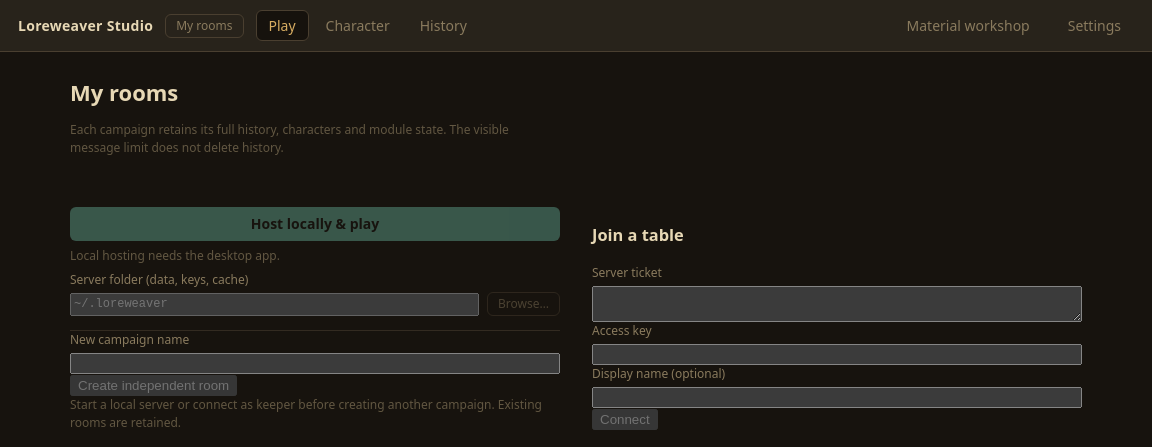
Test: App shell › starts in play mode and switches to studio mode
expect the heading "Join a table" is shown: met, box left=592, top=224, right=684, bottom=246
Click the button "Material workshop" at (968, 26), box left=894, top=10, right=1043, bottom=41
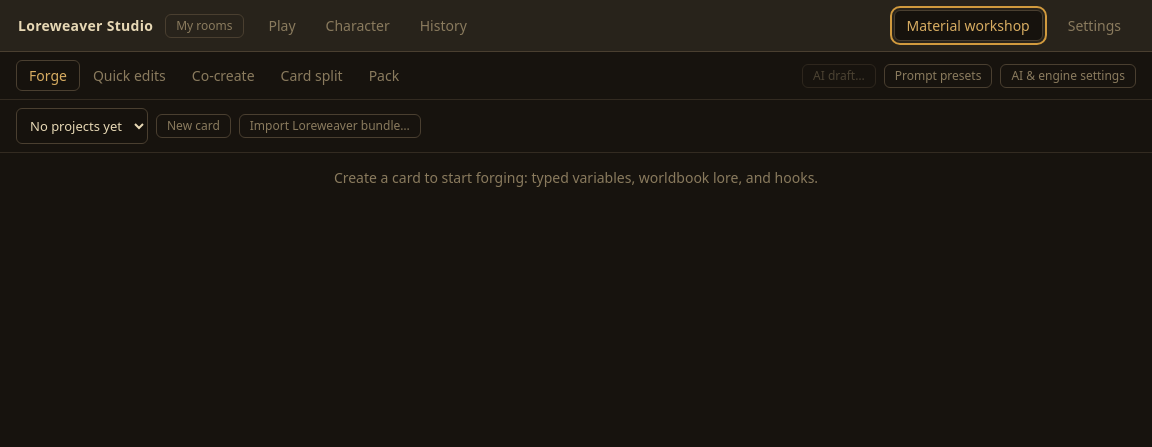
expect the text "start forging" is shown: met, box left=334, top=168, right=818, bottom=187
